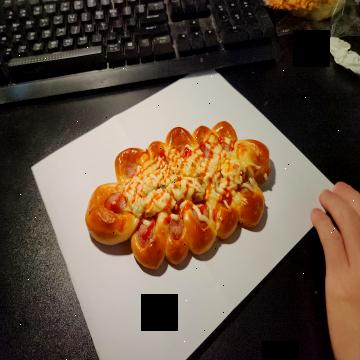pizza_bread: (85, 120, 271, 268)
